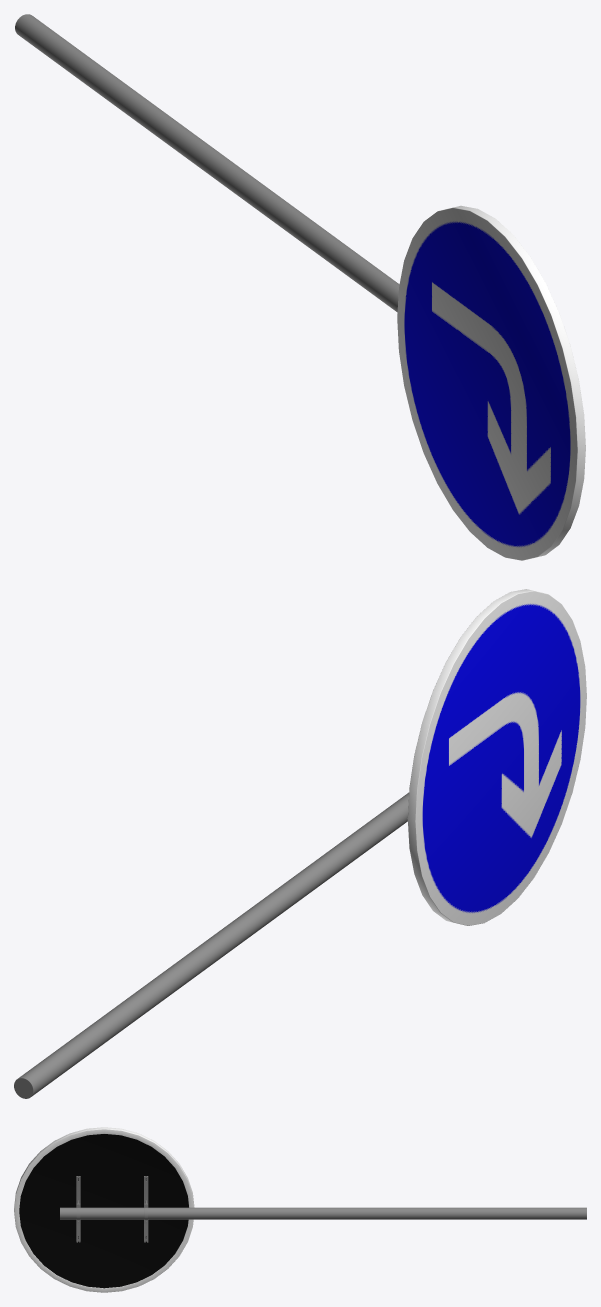
Rendered from right_sign.obj.
The picture shows the model from 3 angles, top to bottom: view 1: azimuth 30°, elevation 25°; view 2: azimuth 150°, elevation 25°; view 3: azimuth 270°, elevation 25°; orthographic projection. The views are drawn at different scales.
Visible parts, largest first — view 1: sign.020, rod.020; view 2: sign.020, rod.020; view 3: sign.020, rod.020.
Boxes of the visible parts, left/top/right/bottom form: sign.020: left=397, top=205, right=585, bottom=560; rod.020: left=15, top=14, right=399, bottom=312; sign.020: left=407, top=589, right=586, bottom=925; rod.020: left=14, top=792, right=408, bottom=1098; sign.020: left=14, top=1127, right=194, bottom=1292; rod.020: left=60, top=1176, right=586, bottom=1242.
Bounding box in the file's own units: 0.0774 × 0.7529 × 2.39.
3 materials, 1 textured.
